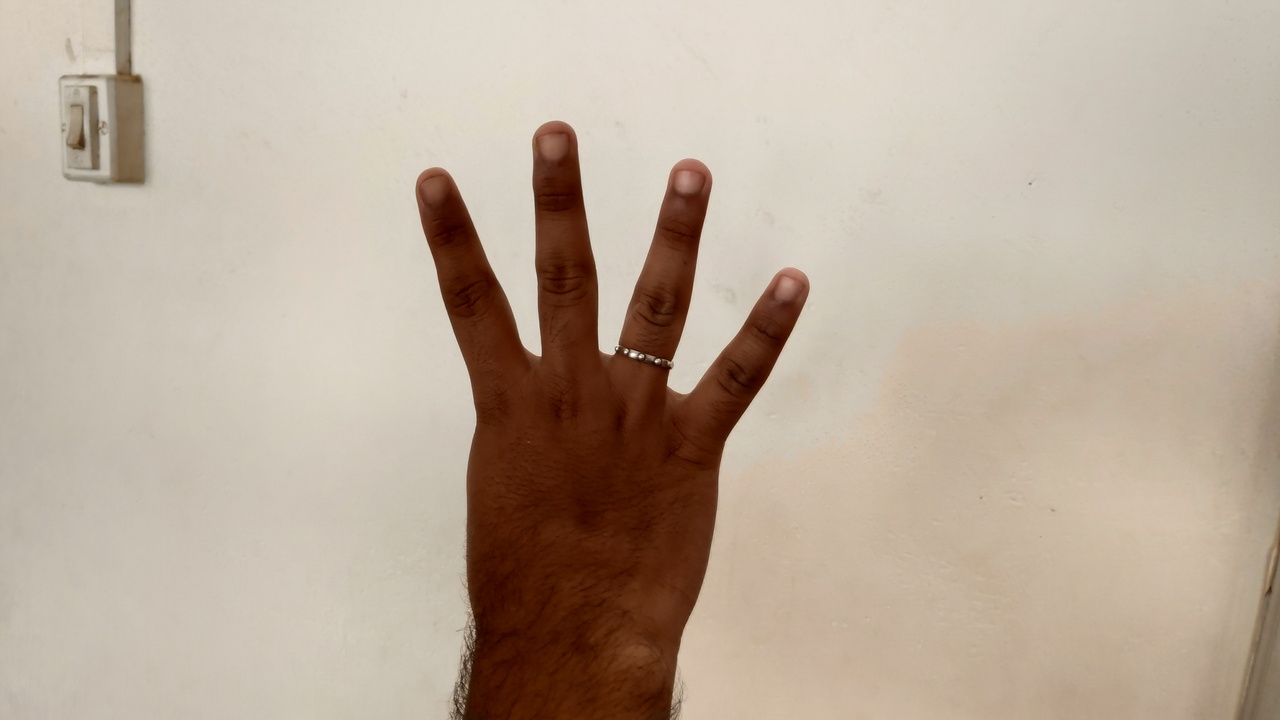fingertip: (654, 152, 716, 208), (756, 258, 818, 314), (524, 120, 582, 174), (406, 160, 466, 212)
